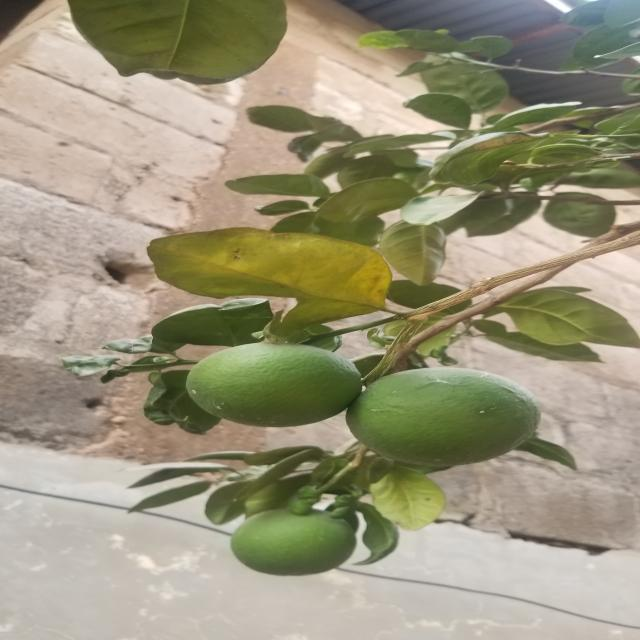Unripe: (366, 362, 538, 481), (173, 336, 363, 428), (219, 503, 375, 578)
